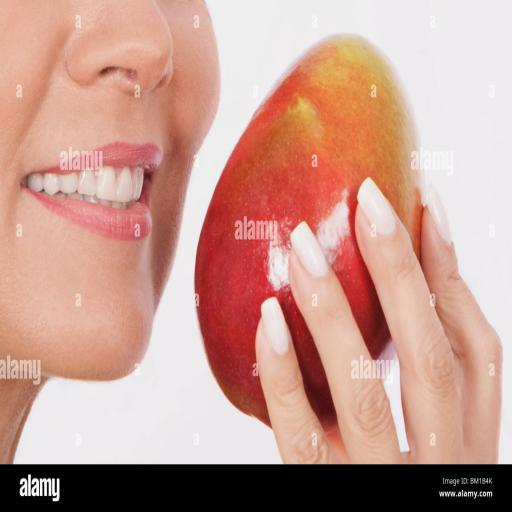mango: (195, 35, 422, 430)
